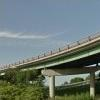Bridge: (6, 27, 96, 84)
